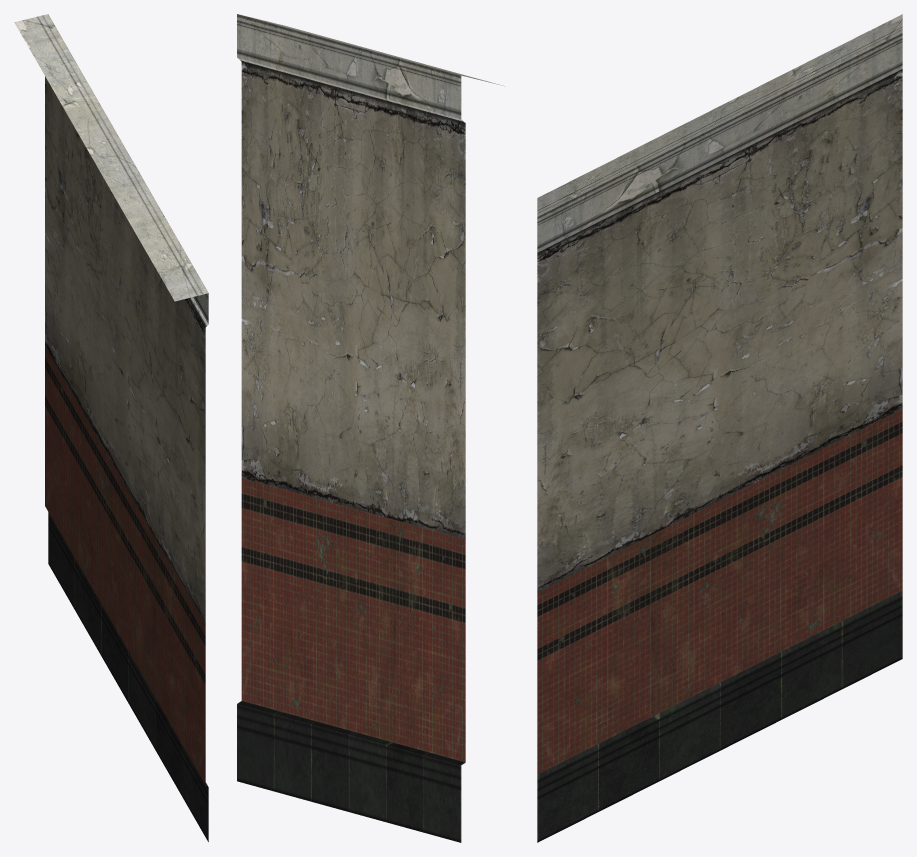
The model's file is urban_damagedl_right_angled_wall.dae.
3 views of the same model, side by side, from view 1: azimuth 30°, elevation 25°; view 2: azimuth 150°, elevation 25°; view 3: azimuth 270°, elevation 25° (orthographic). The views are drawn at different scales.
Visible parts, largest first — view 1: polySurface616, polySurface614, polySurface615, polySurface613; view 2: polySurface616, polySurface614, polySurface613, polySurface615; view 3: polySurface616, polySurface614, polySurface613, polySurface615.
Boxes of the visible parts, box(x1,y1,x2,y2) form: polySurface616: box(45, 76, 205, 624); polySurface614: box(45, 346, 205, 784); polySurface615: box(14, 14, 208, 326); polySurface613: box(48, 512, 208, 841); polySurface616: box(241, 62, 465, 539); polySurface614: box(241, 478, 465, 762); polySurface613: box(237, 701, 465, 842); polySurface615: box(237, 14, 504, 122); polySurface616: box(537, 69, 902, 592); polySurface614: box(537, 409, 902, 774); polySurface613: box(537, 591, 902, 842); polySurface615: box(537, 14, 902, 252).
Size of the model in its own units: 0.2756 by 5.5 by 2.25.
